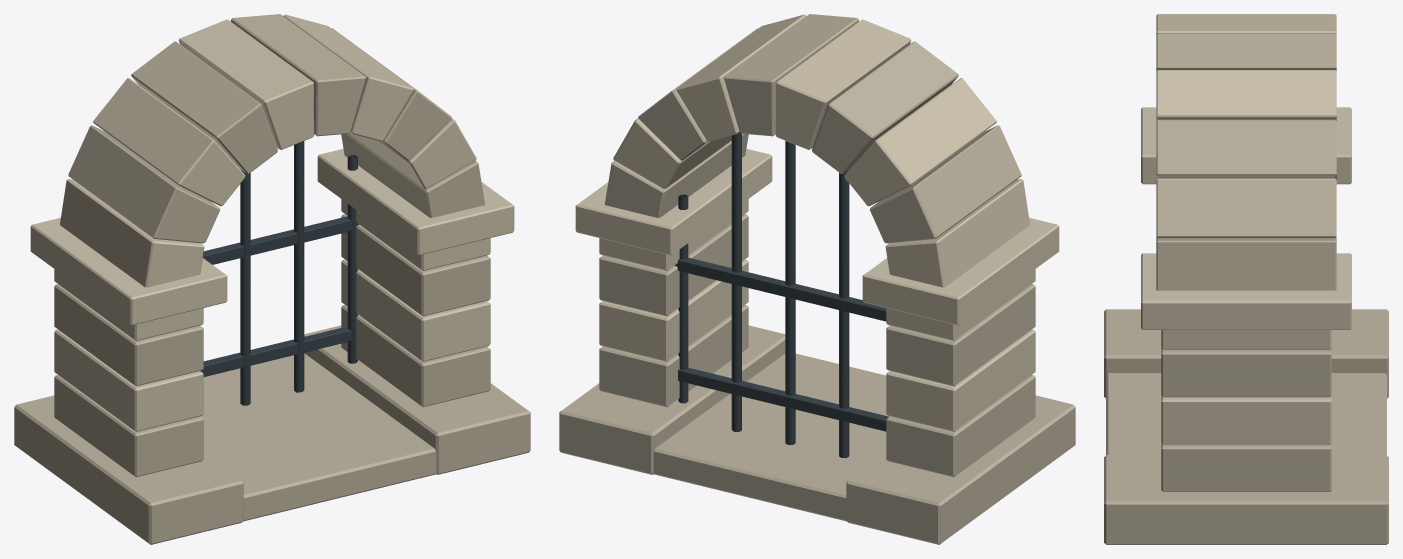
The model's file is S025_sewer_entry_rebuilt.glb.
3 views of the same model, side by side, from view 1: azimuth 30°, elevation 25°; view 2: azimuth 150°, elevation 25°; view 3: azimuth 270°, elevation 25° (orthographic). The views are drawn at different scales.
Visible parts, largest first — view 1: Limestone_painted_foam, Cut_stone_alternate_wash, Dark_painted_steel; view 2: Limestone_painted_foam, Cut_stone_alternate_wash, Dark_painted_steel; view 3: Limestone_painted_foam, Cut_stone_alternate_wash.
Part boxes in pixels (x1,y1,x2,y2): Limestone_painted_foam: [14, 14, 530, 544]; Cut_stone_alternate_wash: [30, 14, 514, 431]; Dark_painted_steel: [200, 141, 359, 405]; Limestone_painted_foam: [559, 14, 1075, 544]; Cut_stone_alternate_wash: [575, 14, 1059, 431]; Dark_painted_steel: [675, 132, 888, 457]; Limestone_painted_foam: [1104, 14, 1388, 544]; Cut_stone_alternate_wash: [1141, 14, 1351, 444].
Bounding box in the file's own units: 2.3 × 2.29 × 1.42.
